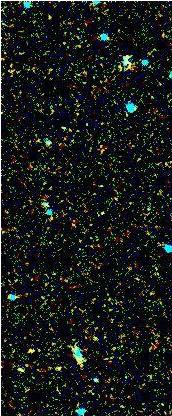star: (111, 43, 141, 73)
